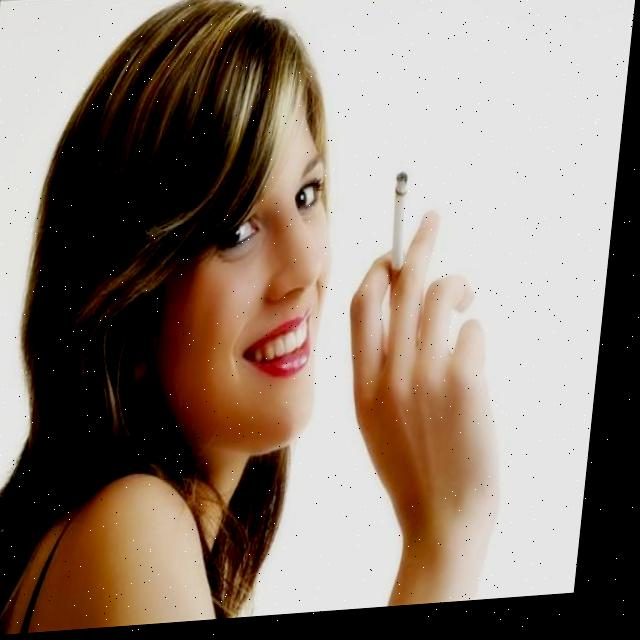cigarette: (390, 179, 416, 301)
